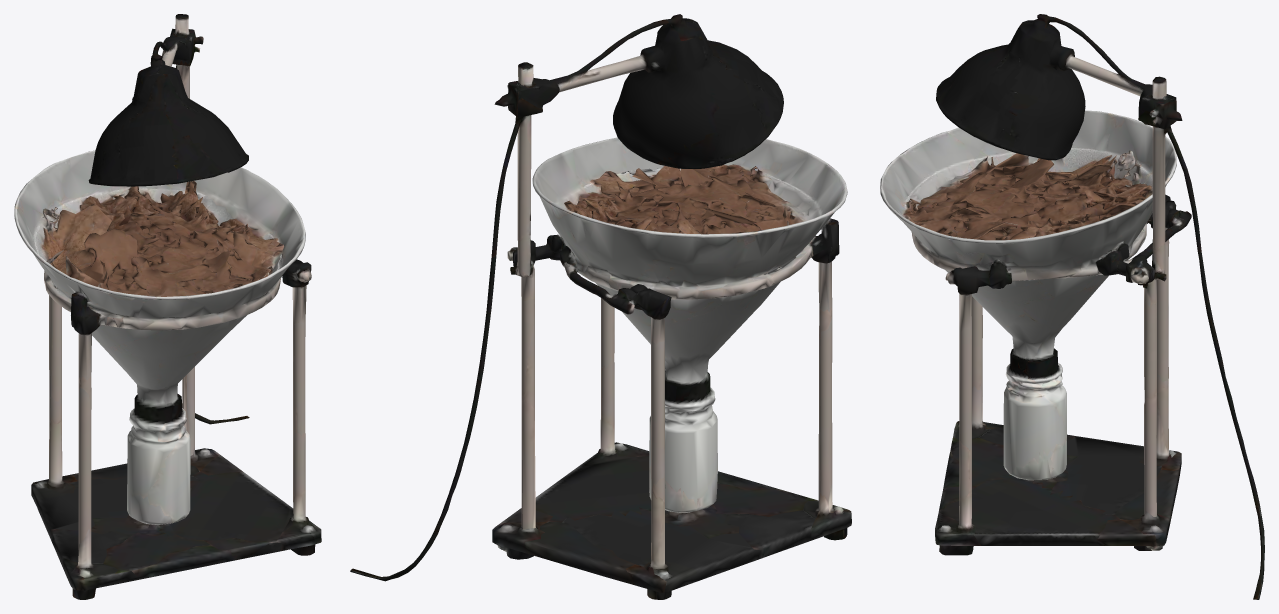
File: 10-01-berlese.glb
The picture shows the model from 3 angles, left to right: view 1: azimuth 30°, elevation 25°; view 2: azimuth 150°, elevation 25°; view 3: azimuth 270°, elevation 25°; orthographic projection. The views are drawn at different scales.
Size of the model in its own units: 1.34 by 1.9 by 1.36.
1 material, 1 textured.
